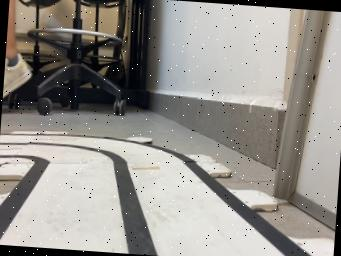street: (0, 133, 310, 256), (0, 133, 310, 256), (0, 133, 310, 256), (0, 133, 310, 256), (0, 133, 310, 256), (0, 133, 310, 256)
